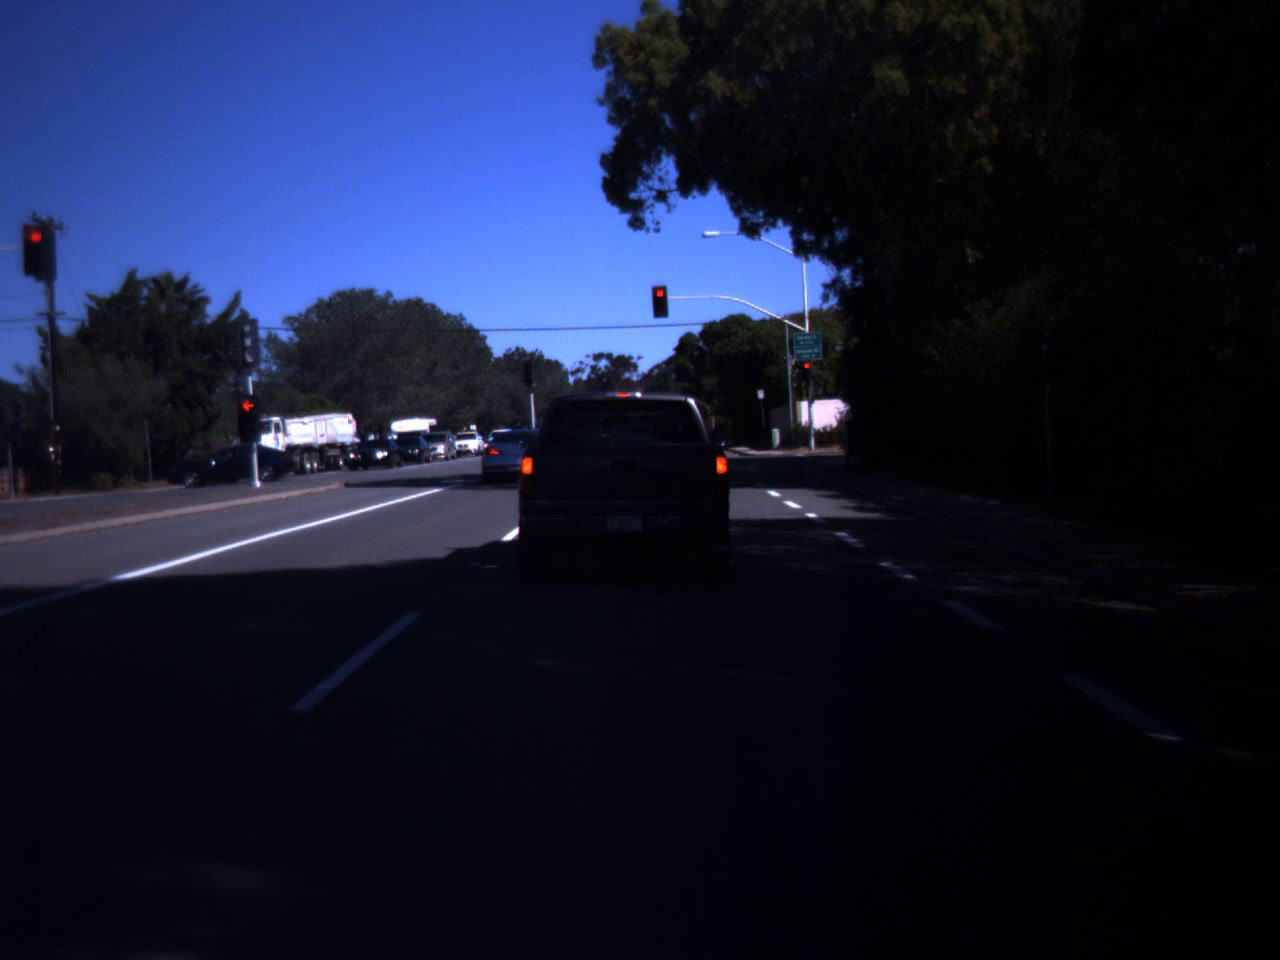stop: (235, 399, 262, 430), (24, 231, 48, 258), (653, 288, 668, 310), (800, 362, 812, 380)
